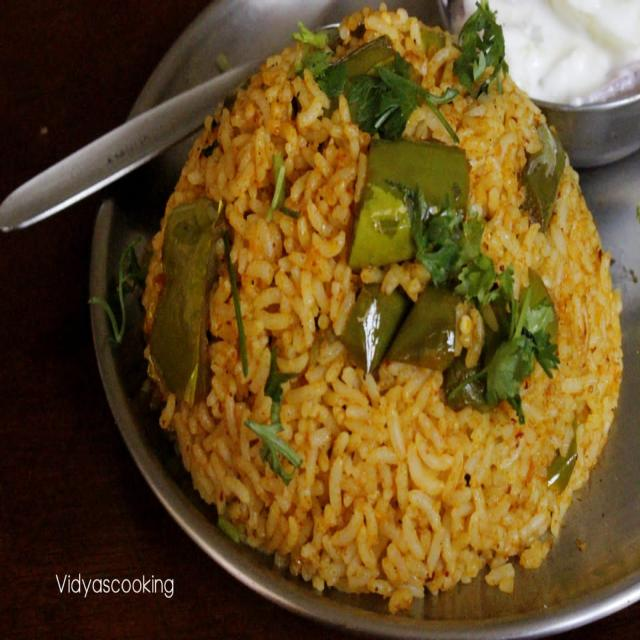vangi bath: (128, 0, 633, 617)
